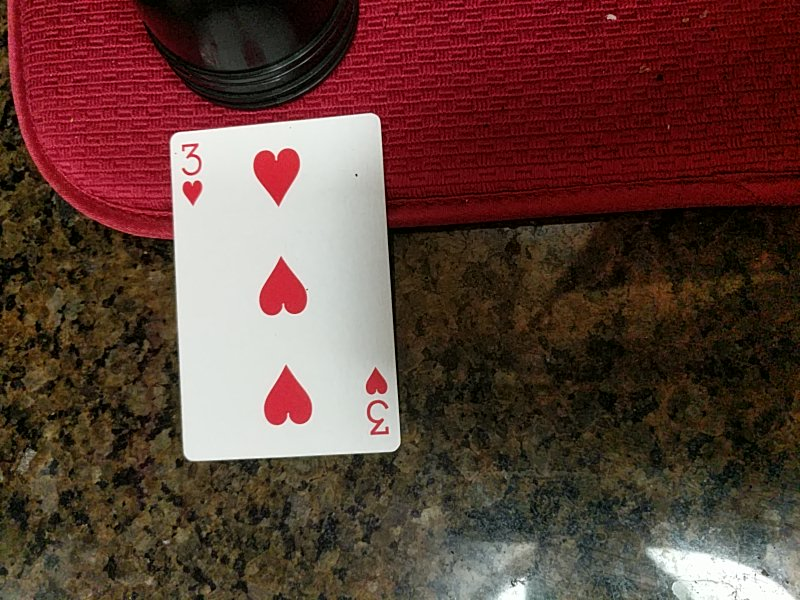Hearts: (170, 109, 406, 462)
